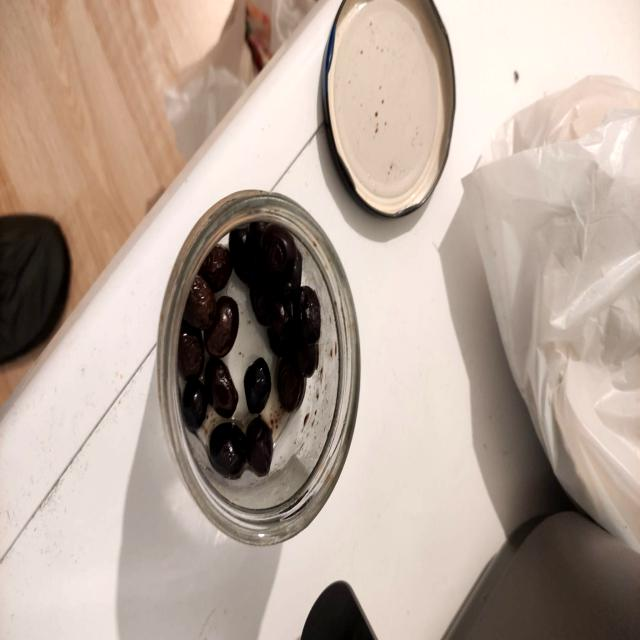olive: (170, 218, 328, 480), (203, 288, 244, 362), (203, 348, 243, 420), (259, 216, 299, 278), (242, 415, 278, 481), (207, 422, 246, 481), (242, 355, 276, 418), (179, 375, 206, 430)
